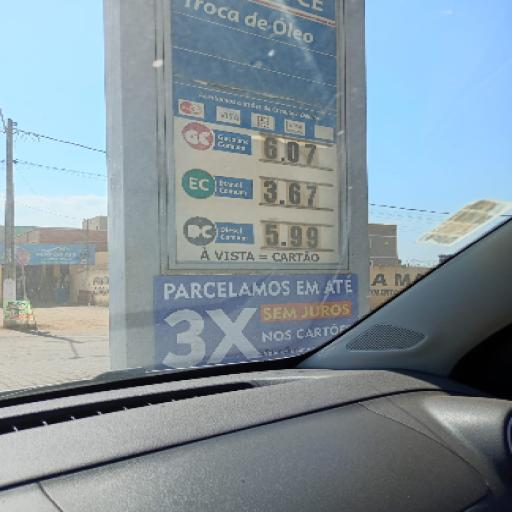ETANOL: (176, 162, 255, 205)
GASOLINA C: (178, 118, 254, 163)
S500: (172, 211, 260, 249)
placa: (120, 6, 373, 286)
preco: (260, 131, 326, 172), (259, 175, 328, 209), (263, 222, 327, 249)
